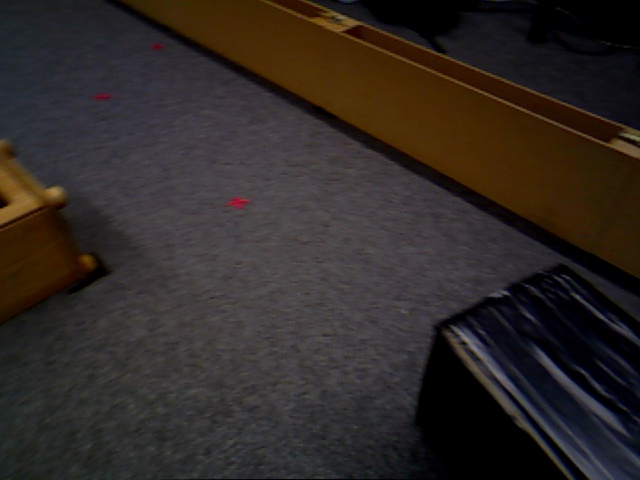push: (412, 262, 640, 476)
